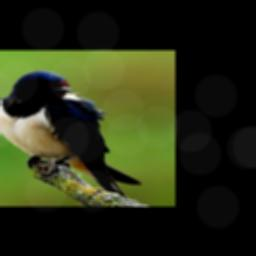Swallow: (0, 69, 143, 198)
